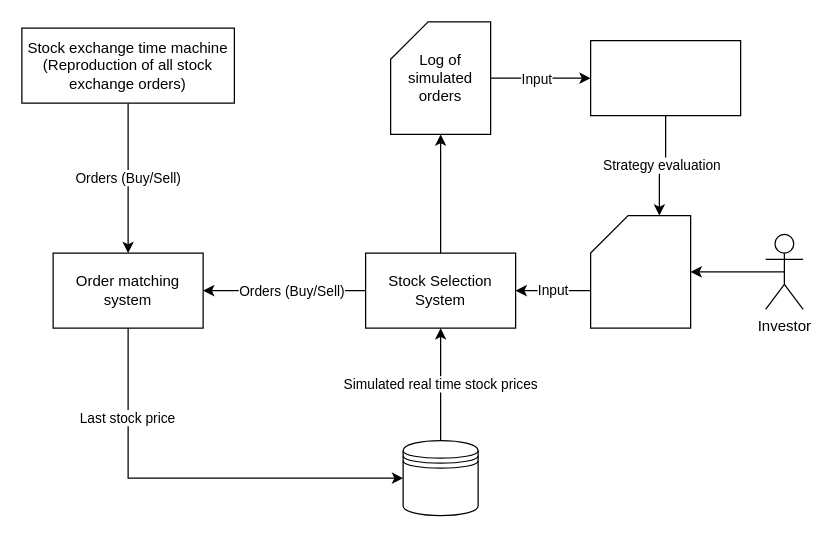
This 833x538 diagram has some shape labels left out. Each missing label, with the box of its shape:
Investment Strategy (Rules): (589, 214, 691, 328)
Portfolio analysis: (589, 39, 741, 116)
